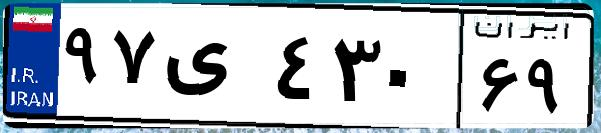0: (385, 28, 445, 110)
3: (330, 28, 385, 110)
4: (270, 28, 330, 110)
6: (475, 38, 525, 113)
7: (110, 28, 158, 98)
9: (57, 26, 110, 100), (525, 38, 570, 115)
ی: (158, 20, 270, 120)
